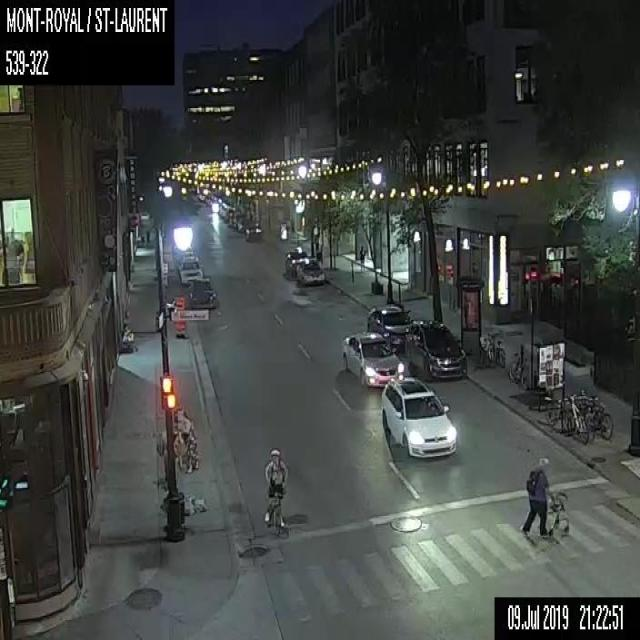construction: (173, 295, 184, 338)
cyclist: (263, 449, 291, 534)
pedestrian: (521, 455, 568, 536), (182, 408, 199, 472), (122, 324, 138, 352), (358, 243, 366, 272)
vehicle: (381, 376, 456, 458), (404, 318, 466, 379), (341, 329, 404, 385), (366, 304, 413, 350), (187, 275, 217, 308), (295, 256, 326, 285), (178, 254, 203, 283), (285, 248, 309, 277), (173, 239, 193, 259), (244, 221, 260, 238), (237, 216, 252, 233), (224, 207, 240, 222), (232, 212, 245, 228)
